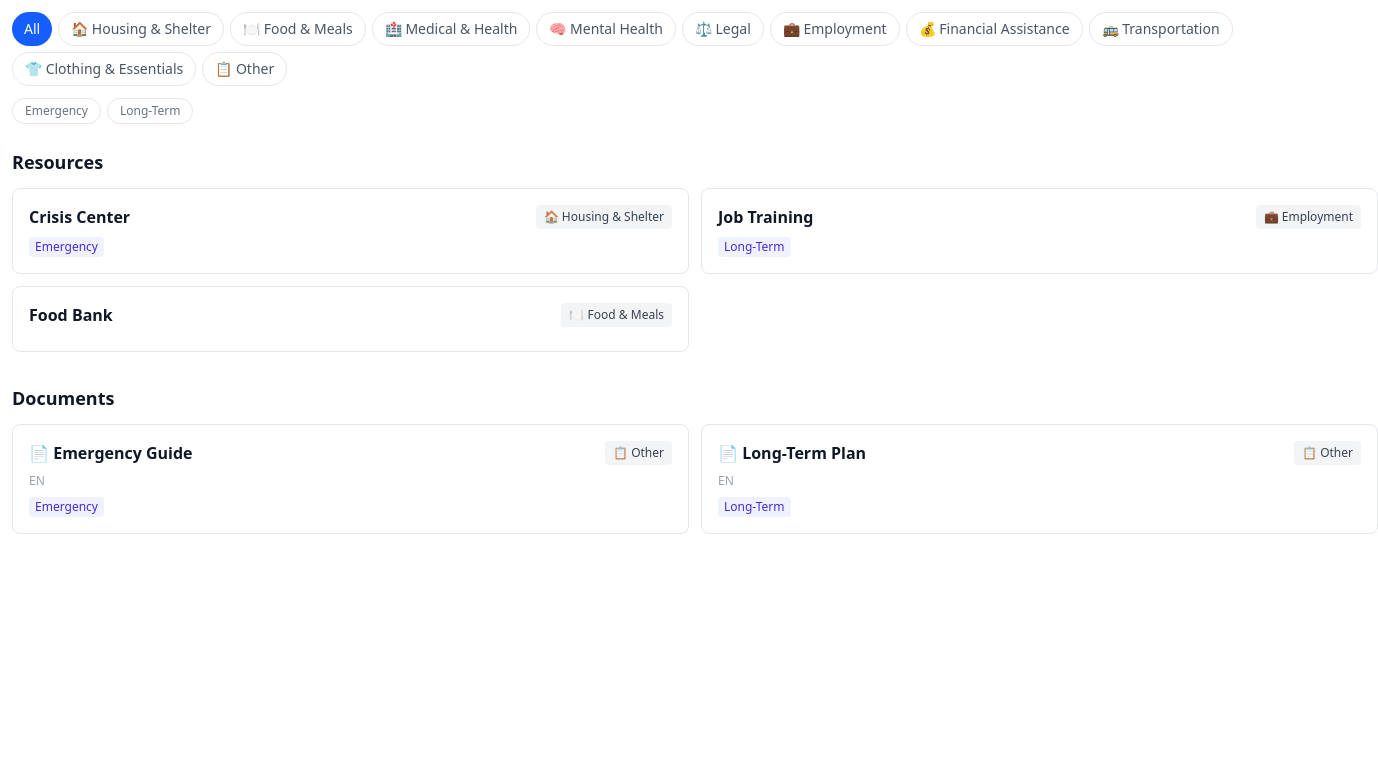
Test case: PublicHome — tag filter › selecting two tag pills shows items matching either tag (OR logic)
Click the button "Emergency".
click(56, 111)  # box [12, 98, 101, 124]
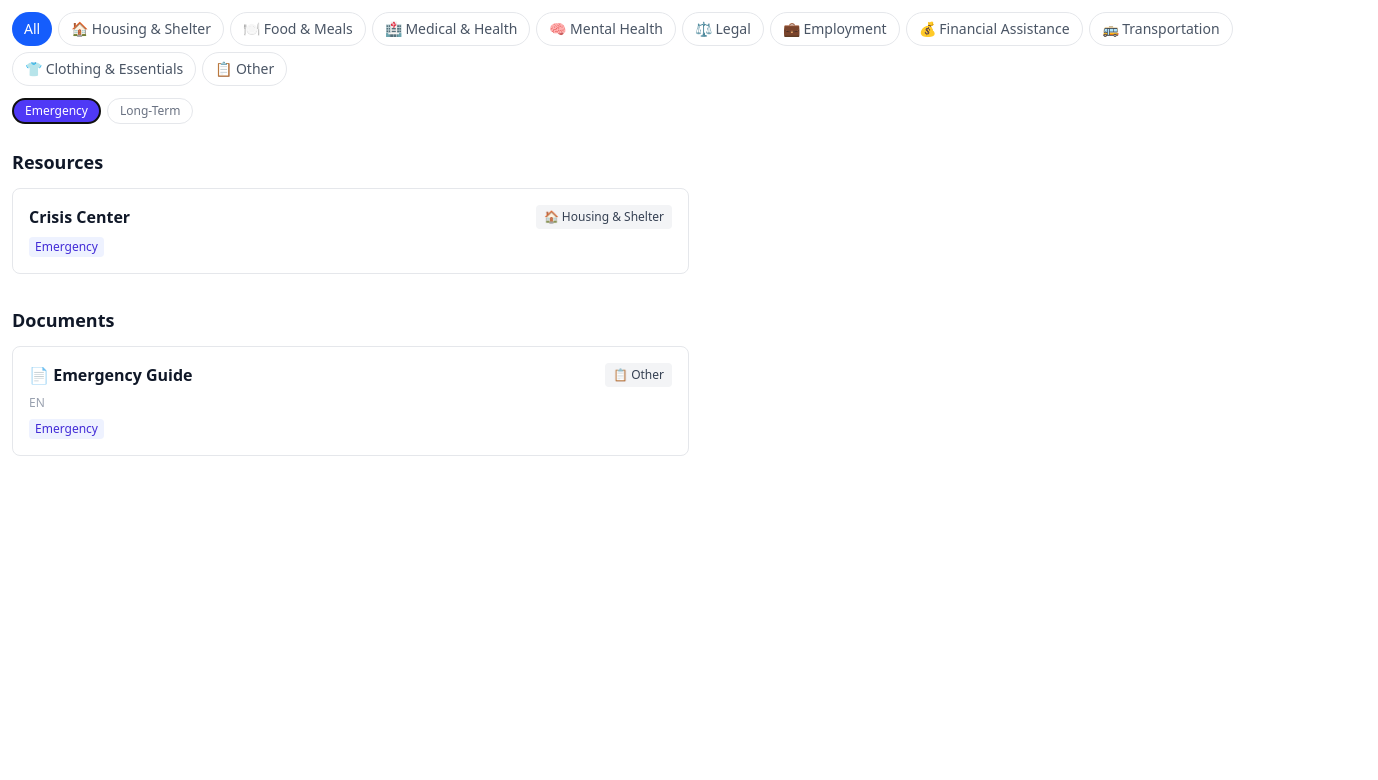
Click the button "Long-Term".
click(150, 111)  # box [107, 98, 194, 124]
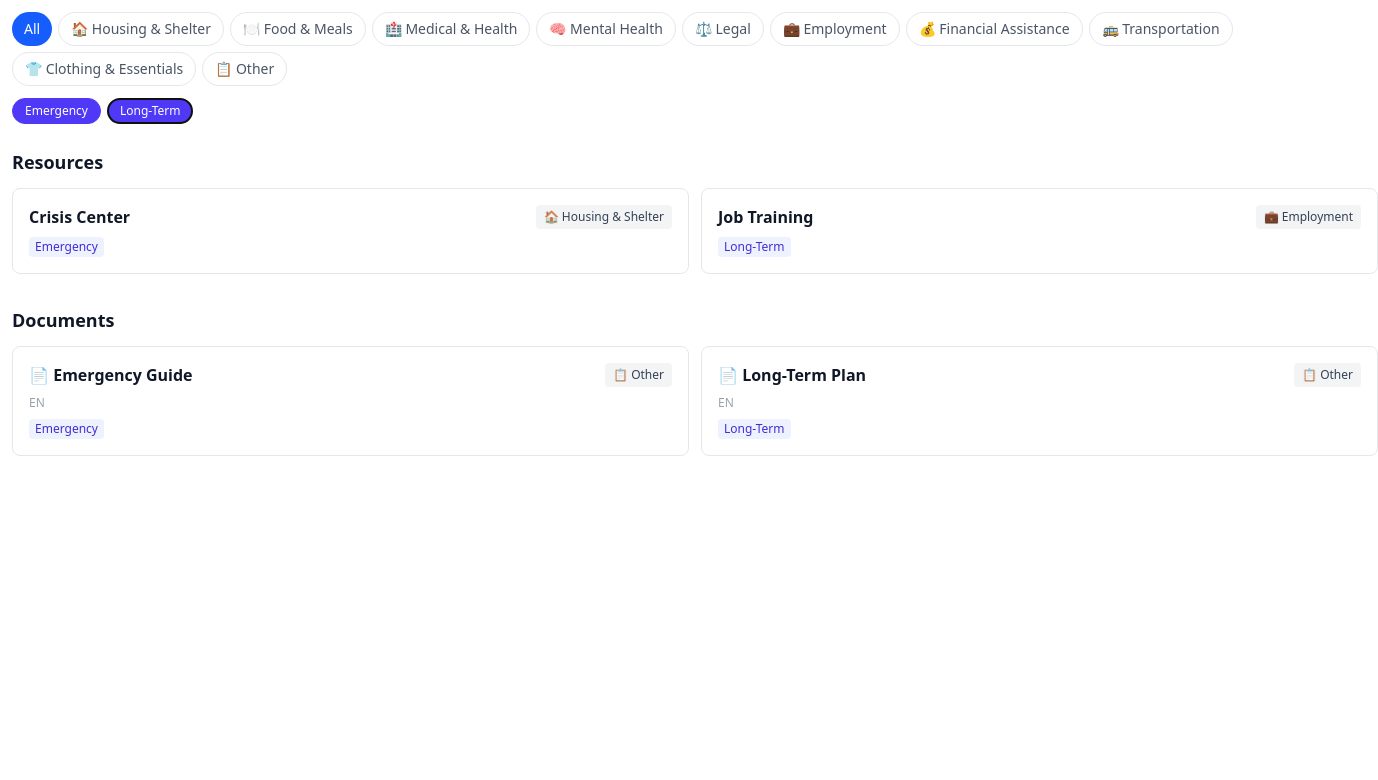
Expected: the heading "Crisis Center" is shown, [29, 205, 130, 229]
Now the heading "Job Training" is shown, box [718, 205, 814, 229]
